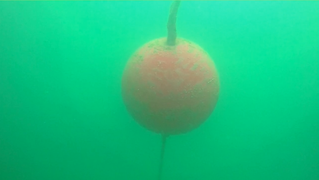bubble: (44, 89, 50, 95), (225, 135, 231, 141), (41, 120, 46, 125), (121, 134, 126, 139), (113, 111, 118, 116)
buoy: (120, 37, 219, 135)
